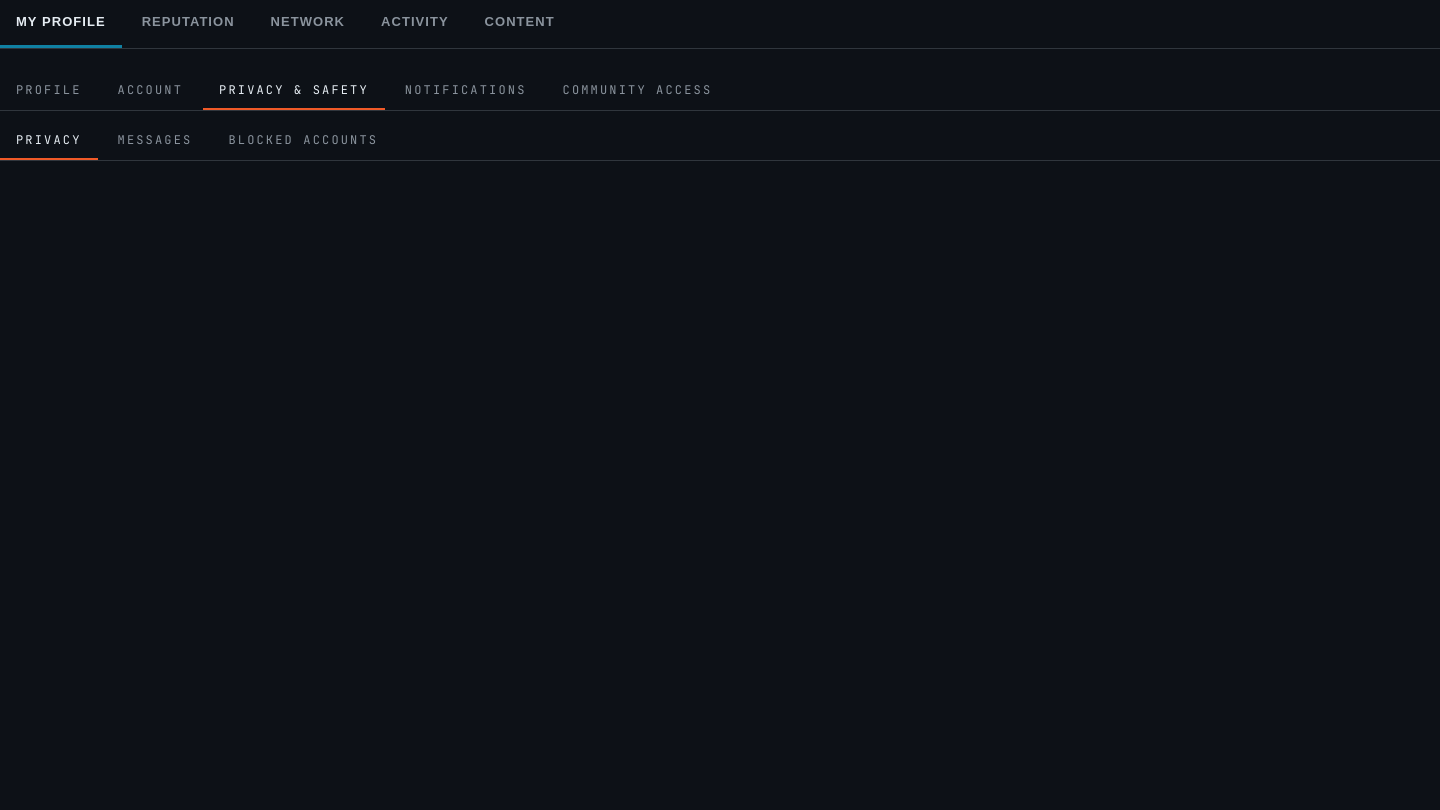
Test: a dirty form survives every top-level group move › dirty Privacy → privacy is guarded
Step 1. Click the tab "Content" → click(520, 24), box top-left (469, 0), bottom-right (571, 48)
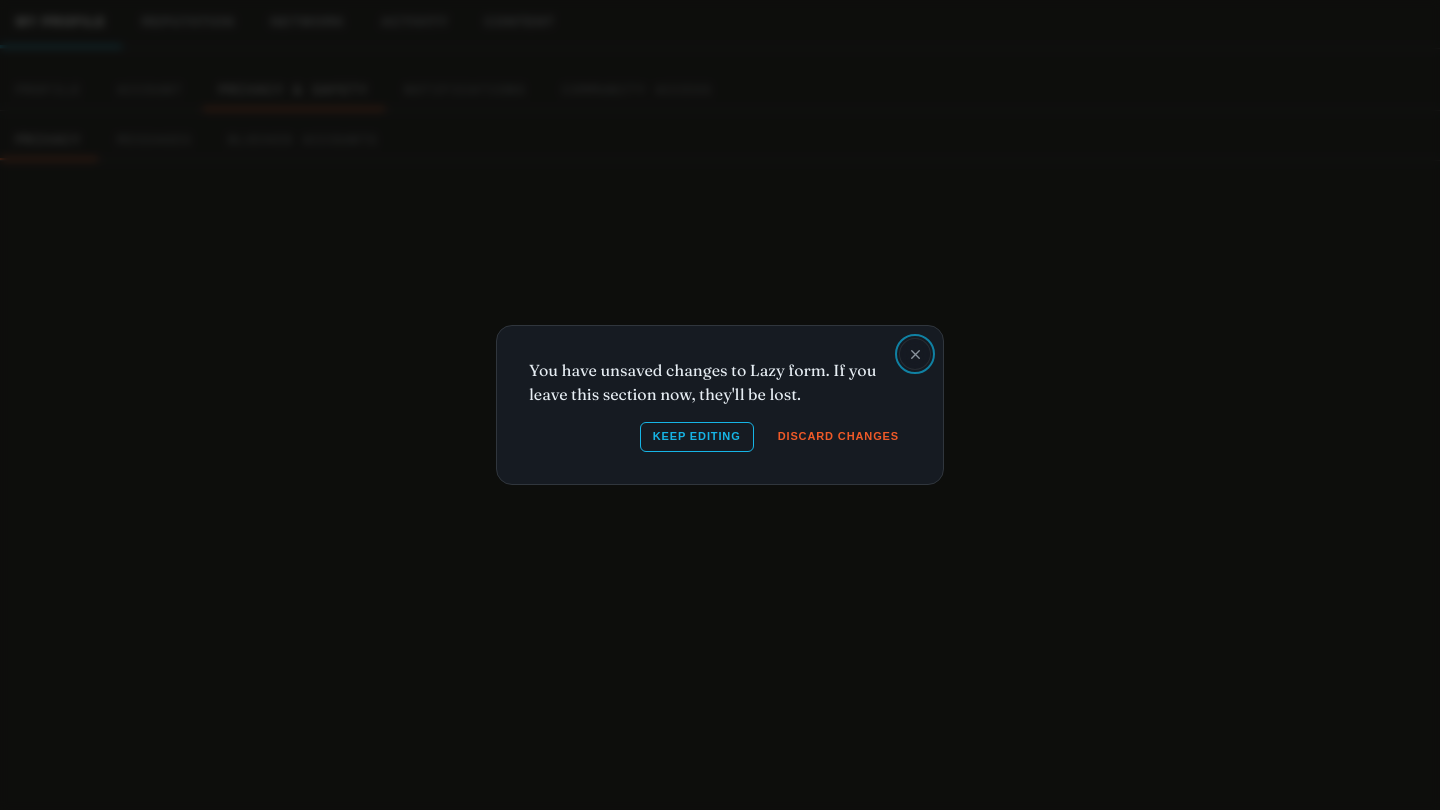
Expected: the dialog is shown
